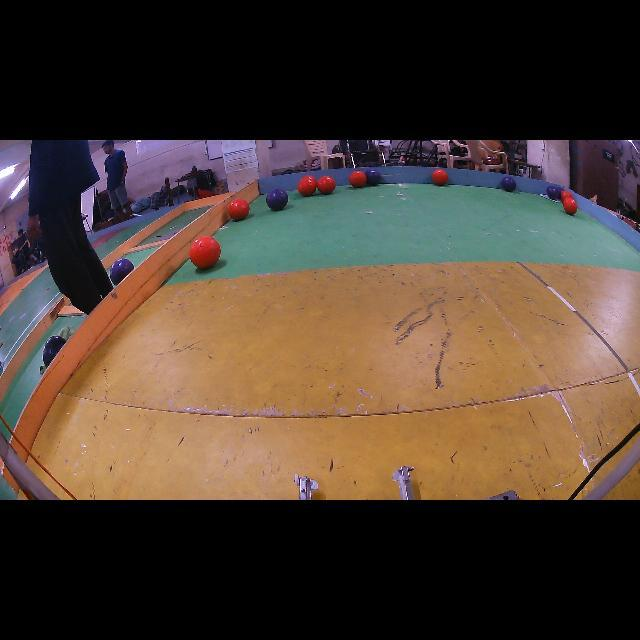P: (110, 259, 134, 285), (266, 189, 289, 211), (365, 169, 381, 185), (501, 176, 516, 192), (546, 185, 561, 200), (558, 186, 564, 194)
R: (190, 236, 221, 269), (229, 199, 250, 221), (316, 176, 336, 194), (349, 170, 366, 188), (298, 180, 316, 196), (432, 169, 449, 185), (562, 198, 578, 215), (560, 190, 572, 201), (301, 175, 316, 182)
